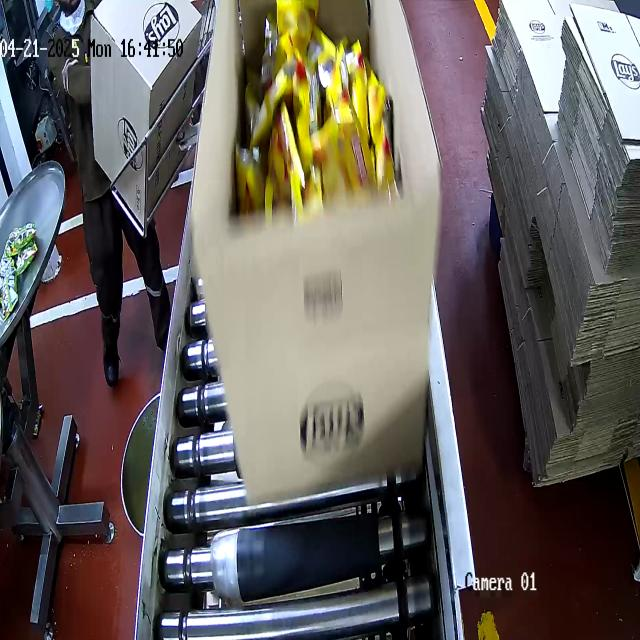SALTED: (238, 28, 394, 228)
